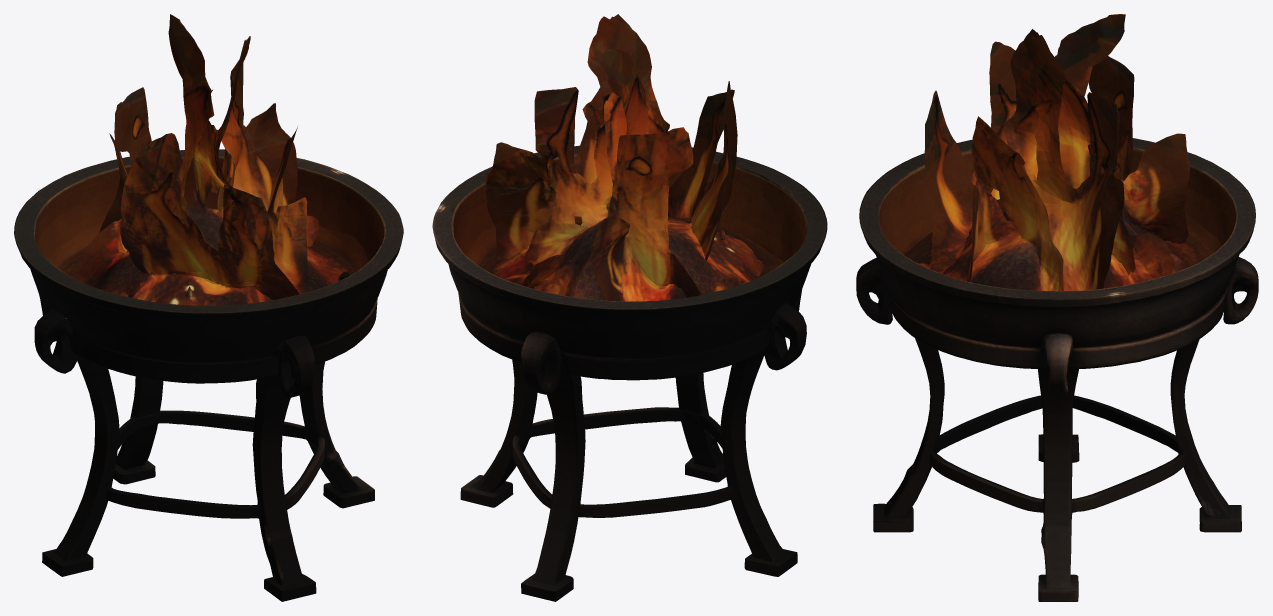
Rendered from fireplace_small.glb.
3 renders of one model, left to right at view 1: azimuth 30°, elevation 25°; view 2: azimuth 150°, elevation 25°; view 3: azimuth 270°, elevation 25°, orthographic. The views are drawn at different scales.
Parts seen in each view (by area): view 1: world; view 2: world; view 3: world.
Part boxes in pixels (box(x1,y1,x2,y2)): world: box(14, 14, 403, 601); world: box(432, 14, 827, 601); world: box(856, 14, 1258, 601).
Size of the model in its own units: 0.7188 by 0.9993 by 0.7191.
Materials: 1 (1 with a texture image).
